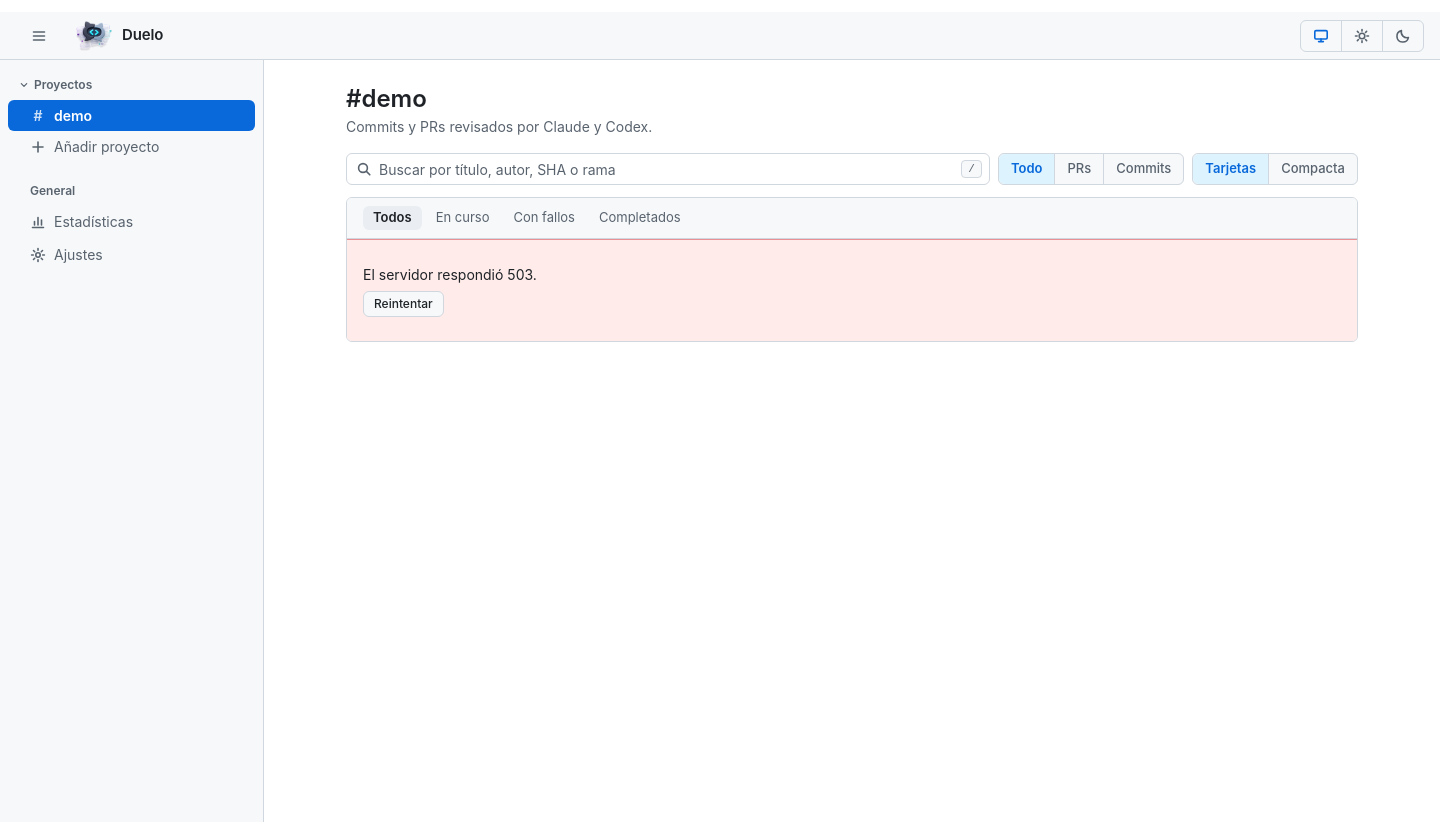
load states › shows a recoverable error and then the channel after retrying
This screenshot has width=1440, height=822.
Expected: the message shows "503", [363,266,537,282]
Click the button "Reintentar".
click(403, 304)  # box [363,290,444,316]
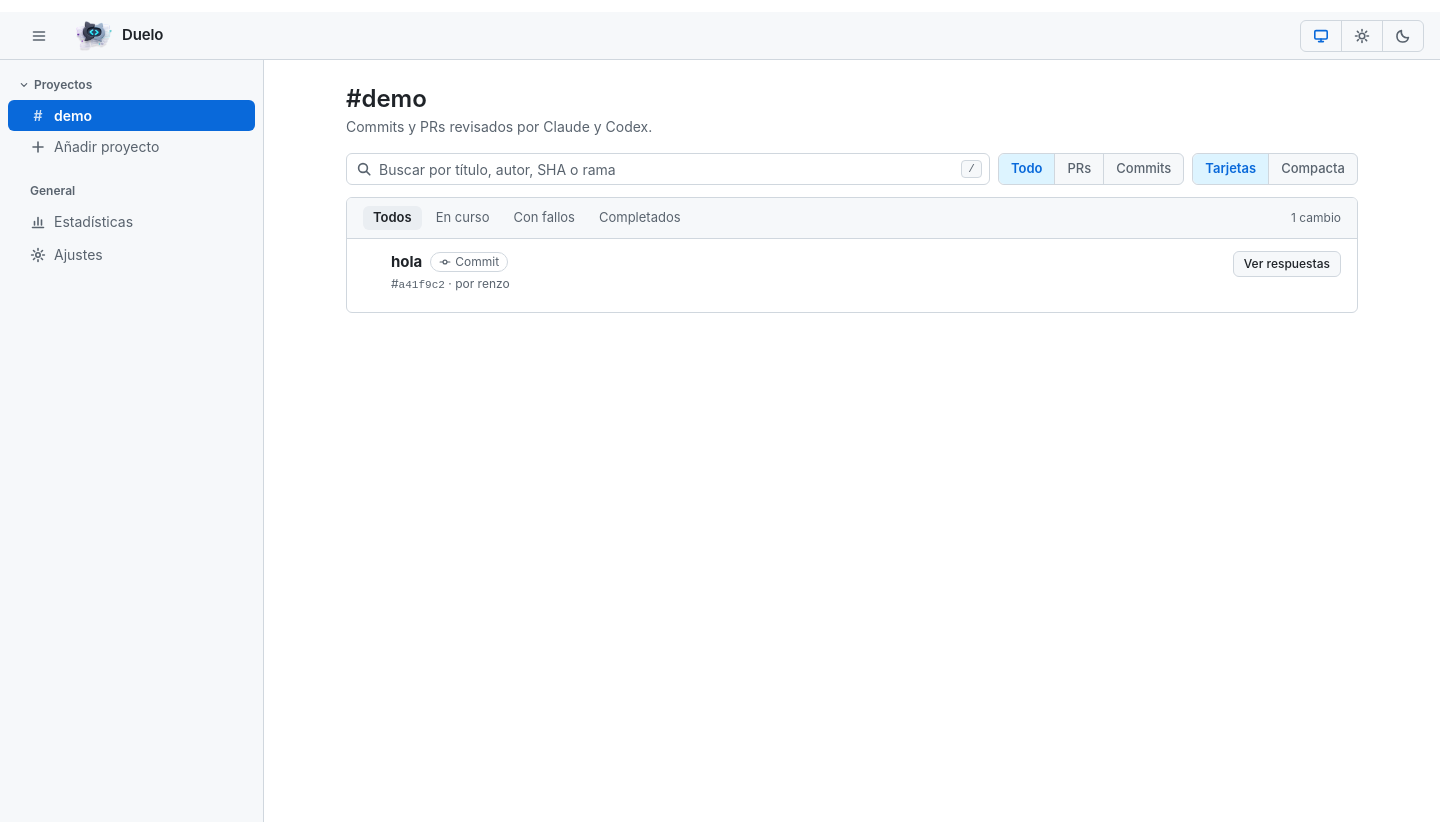
Expected: the text "hola" is shown, [391,252,422,270]
Expected: the message "El servidor respondió 503. Reintentar" is gone
